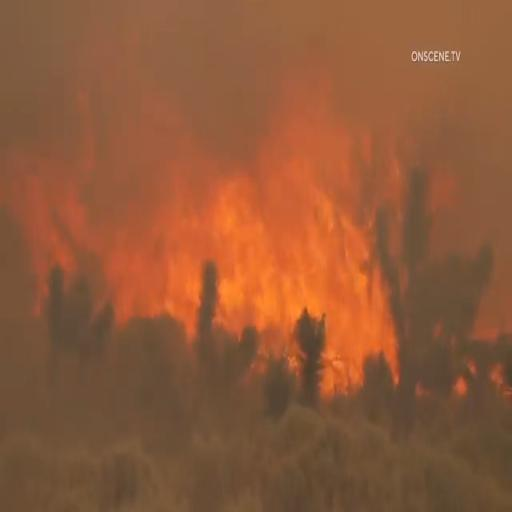fire: (28, 127, 401, 412)
